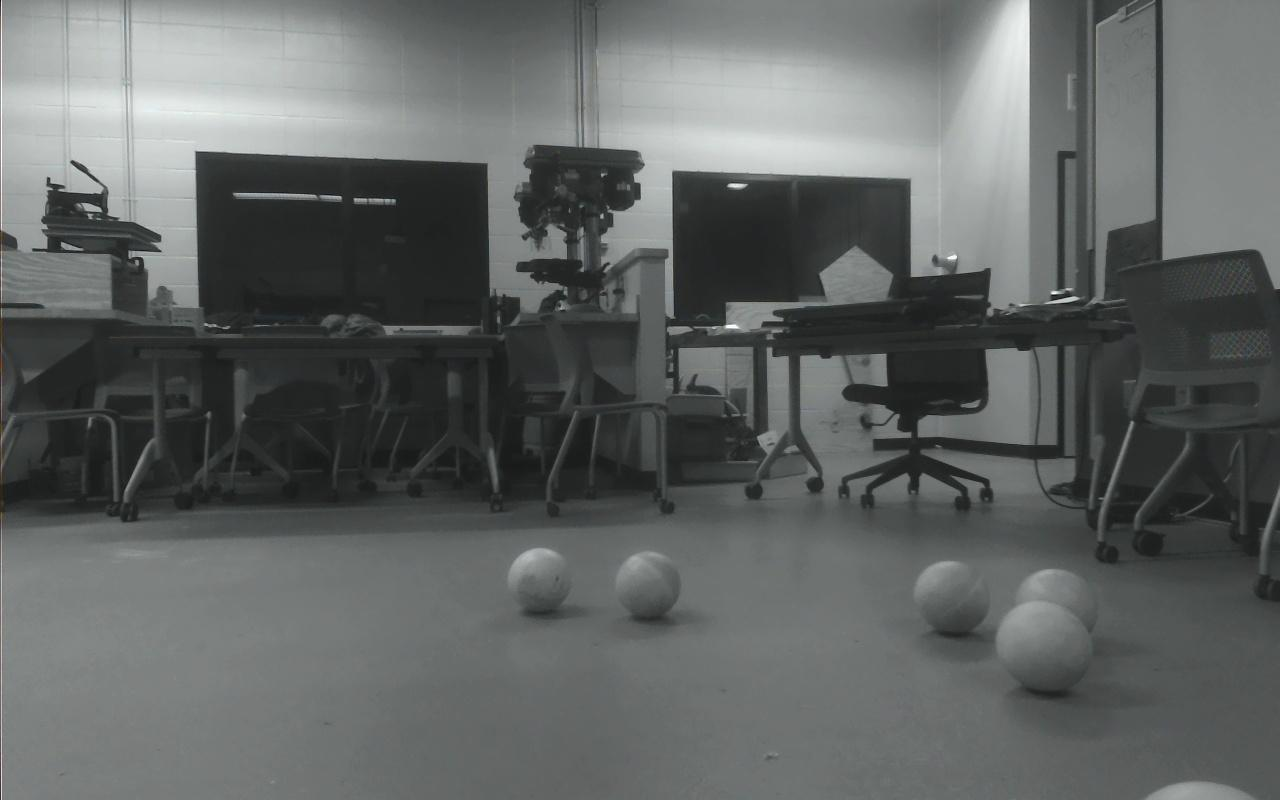Fuel: (995, 601, 1094, 694), (913, 560, 989, 636), (1014, 568, 1100, 634), (614, 551, 682, 619), (507, 548, 573, 613)
